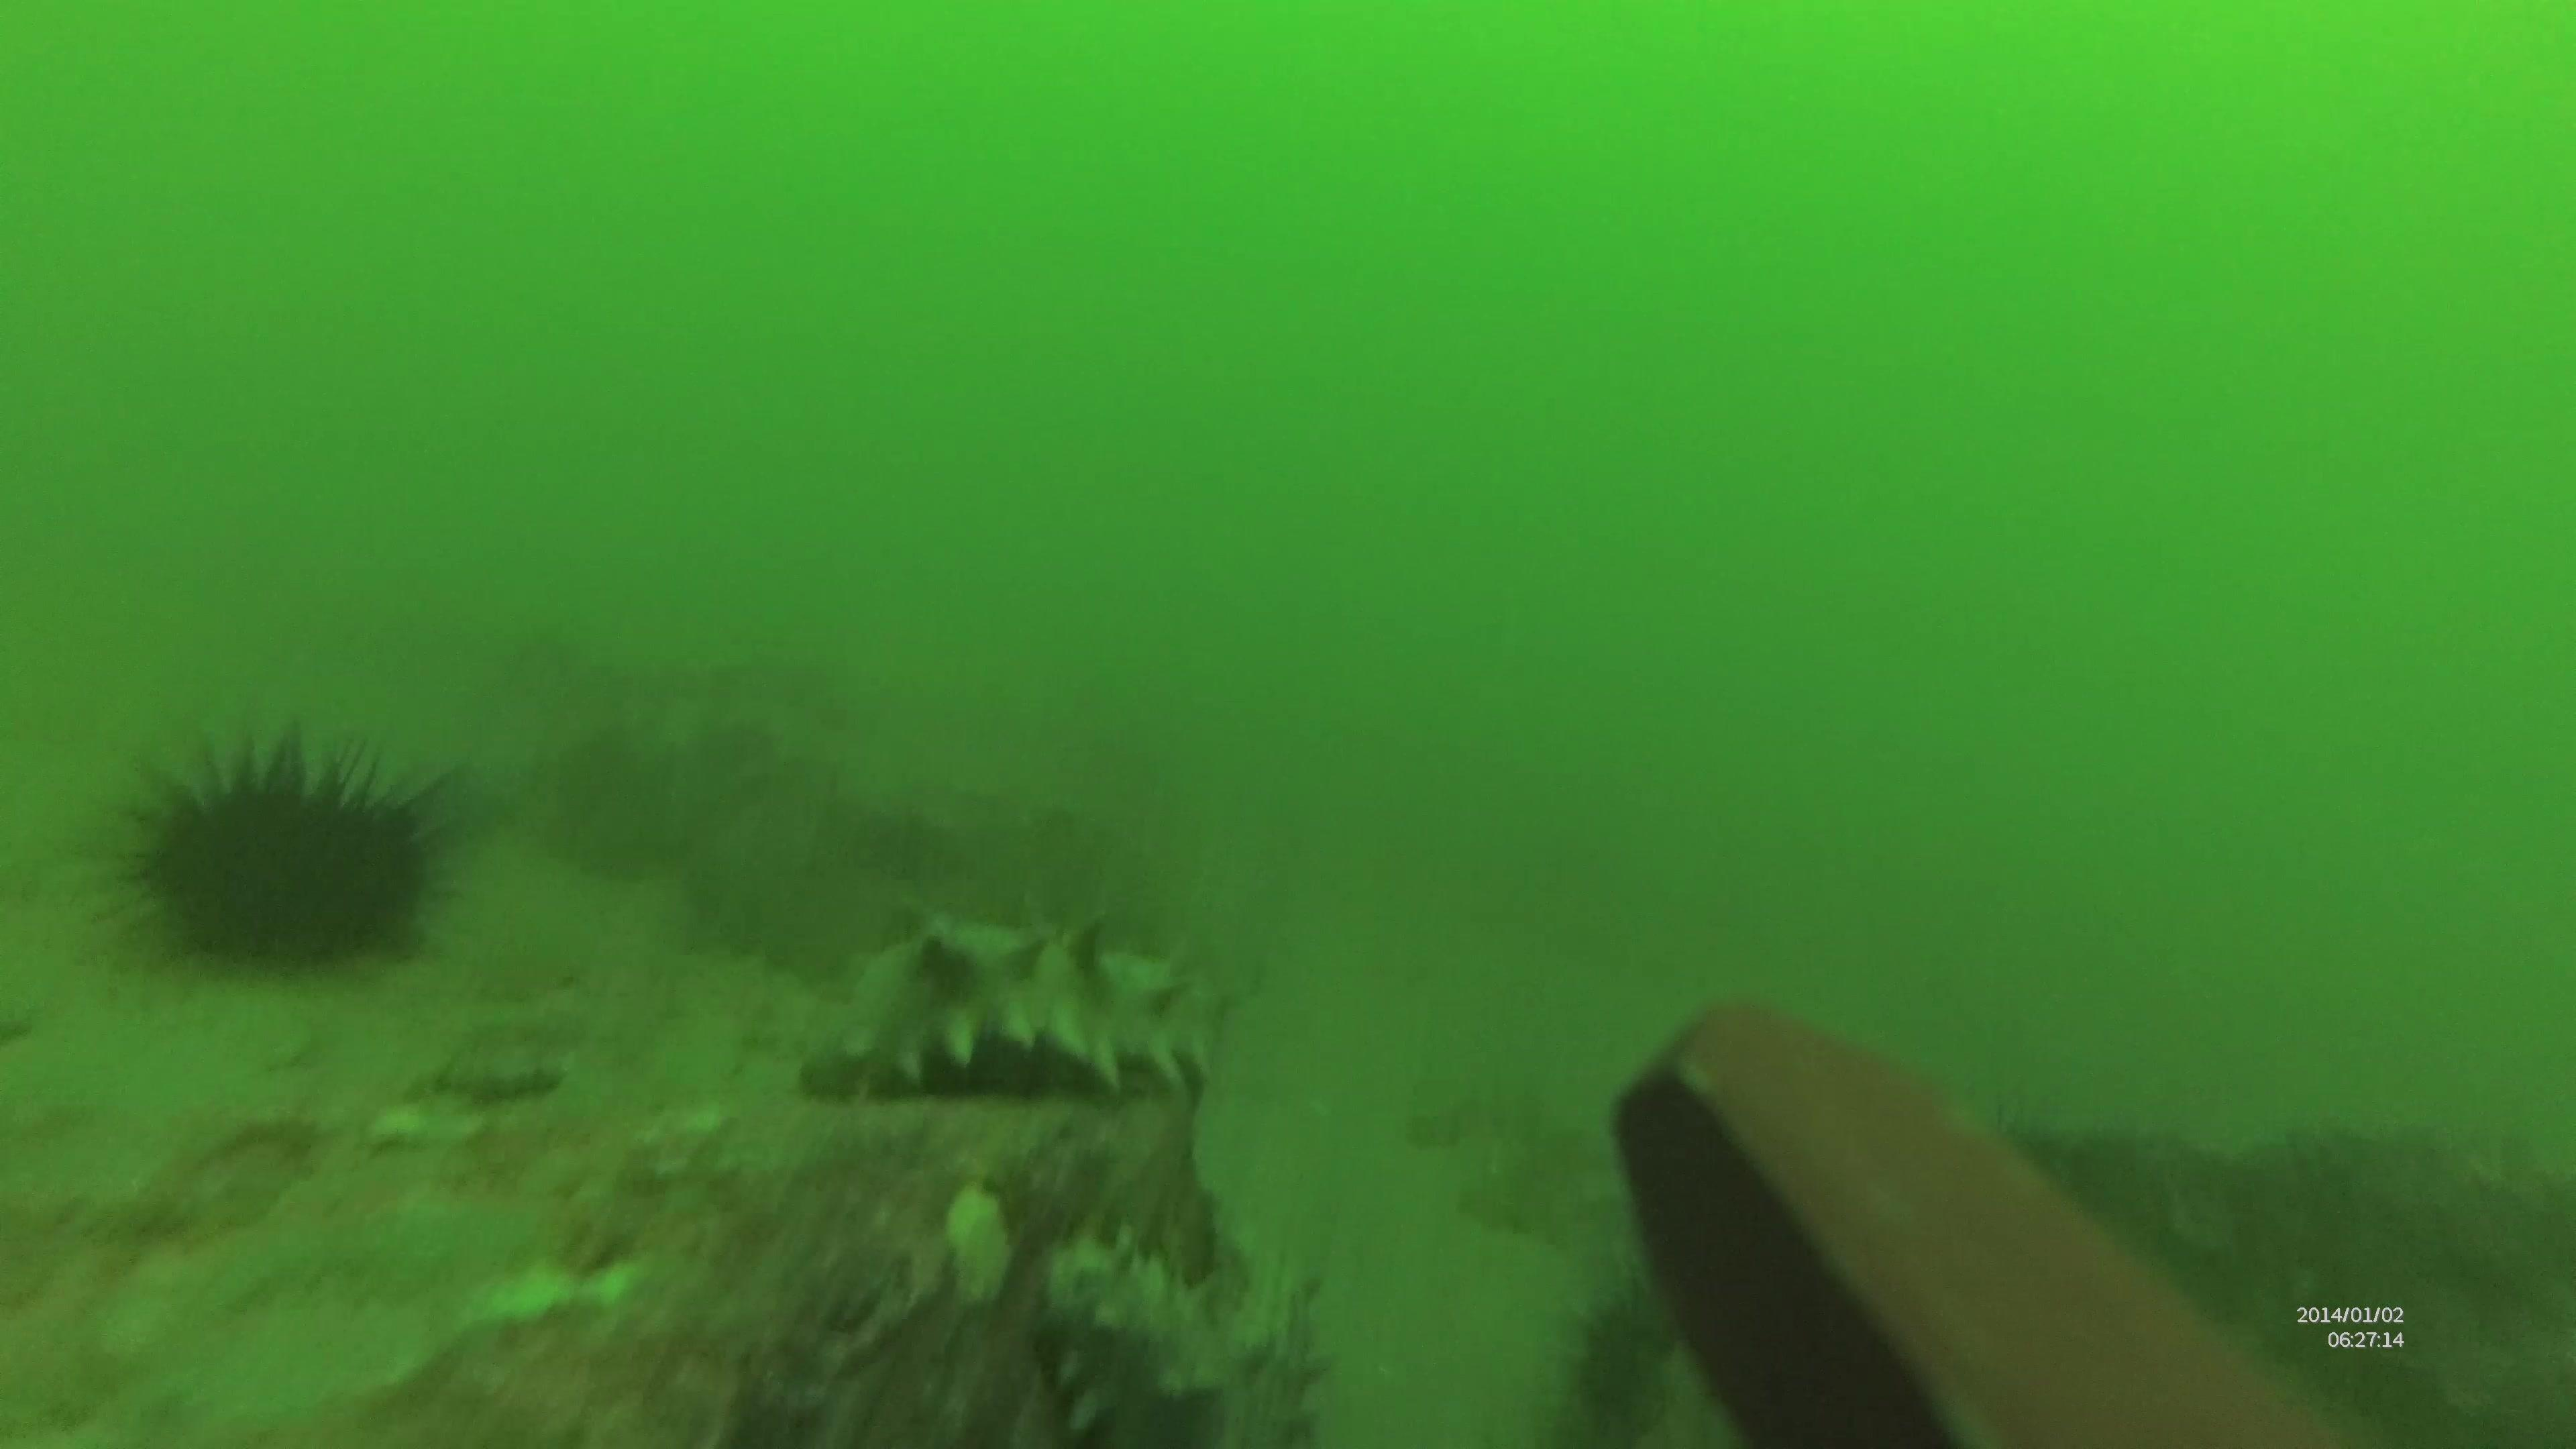echinus: (108, 727, 474, 978), (1562, 1269, 1681, 1449)
holothurian: (794, 906, 1233, 1108), (1035, 1237, 1246, 1449)
